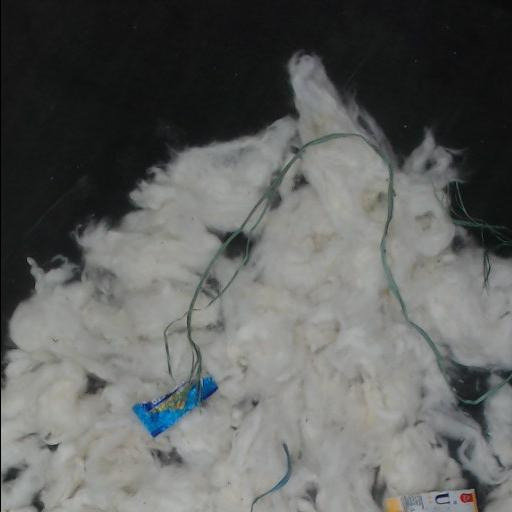conveyor belt: (1, 0, 512, 350)
cotton: (1, 53, 512, 511)
packet: (386, 490, 477, 511)
thread: (133, 129, 448, 435), (451, 181, 512, 286), (251, 444, 292, 511), (460, 373, 512, 403)
